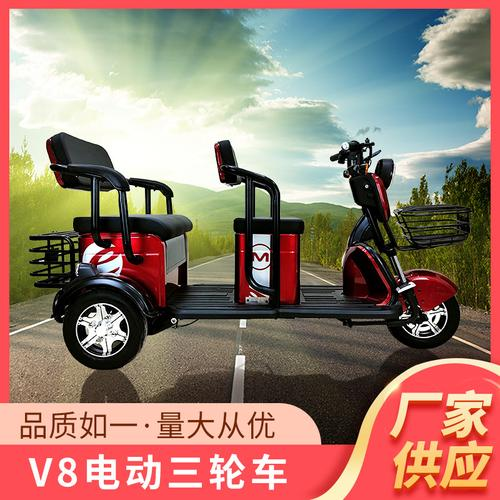empty: (11, 108, 478, 375)
